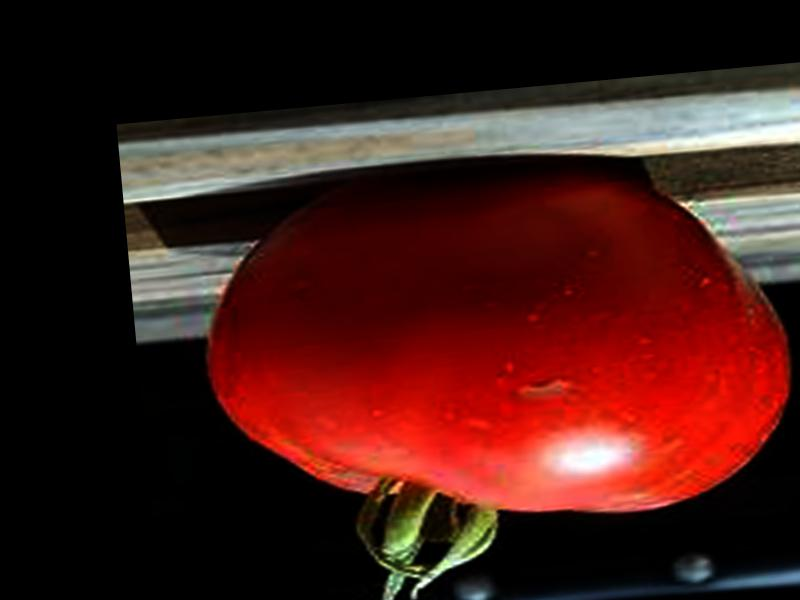Tomato: (194, 146, 800, 600)
